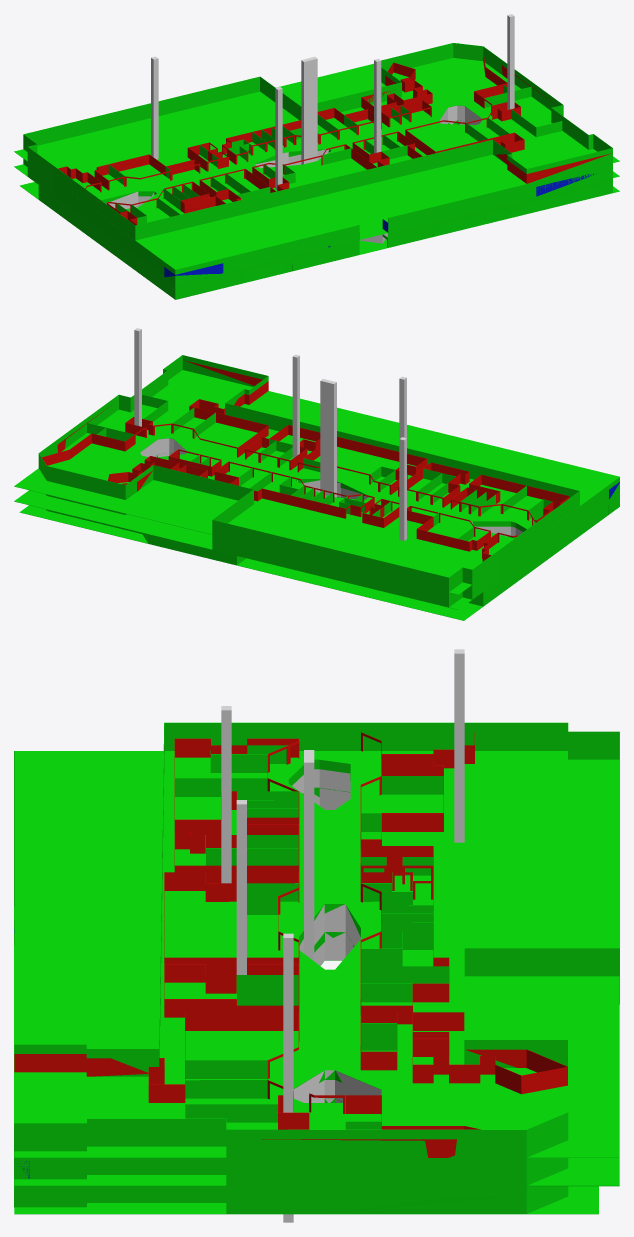
File: DSFDMap_Test.fbx
3 renders of one model, top to bottom at view 1: azimuth 30°, elevation 25°; view 2: azimuth 150°, elevation 25°; view 3: azimuth 270°, elevation 25°, orthographic. The views are drawn at different scales.
Parts seen in each view (by area): view 1: 2f_floor, Cube, whole, Cube.003, Cube.002, Cube.004, Cube.001; view 2: 2f_floor, Cube, whole, Cube.003, Cube.001, Cube.004, Cube.002; view 3: 2f_floor, whole, Cube, Cube.003, Cube.004, Cube.002, Cube.001.
Part boxes in pixels (left/top/right/bottom): 2f_floor: left=14, top=43, right=619, bottom=299; Cube: left=301, top=56, right=317, bottom=164; whole: left=106, top=105, right=481, bottom=243; Cube.003: left=151, top=56, right=158, bottom=159; Cube.002: left=275, top=87, right=282, bottom=189; Cube.004: left=507, top=14, right=514, bottom=109; Cube.001: left=374, top=58, right=381, bottom=153; 2f_floor: left=14, top=355, right=619, bottom=620; Cube: left=320, top=379, right=336, bottom=497; whole: left=140, top=438, right=522, bottom=537; Cube.003: left=399, top=437, right=406, bottom=540; Cube.001: left=292, top=354, right=299, bottom=457; Cube.004: left=134, top=328, right=141, bottom=426; Cube.002: left=399, top=376, right=406, bottom=438; 2f_floor: left=14, top=722, right=619, bottom=1214; whole: left=292, top=769, right=381, bottom=1102; Cube: left=304, top=750, right=314, bottom=960; Cube.003: left=454, top=649, right=464, bottom=842; Cube.004: left=283, top=933, right=293, bottom=1222; Cube.002: left=221, top=706, right=231, bottom=883; Cube.001: left=236, top=800, right=246, bottom=974.
Bounding box in the file's own units: 18610 × 6073 × 11709.
